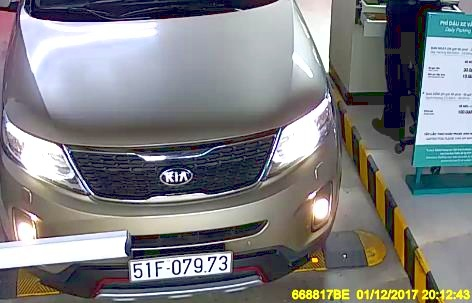plate: (124, 254, 232, 278)
